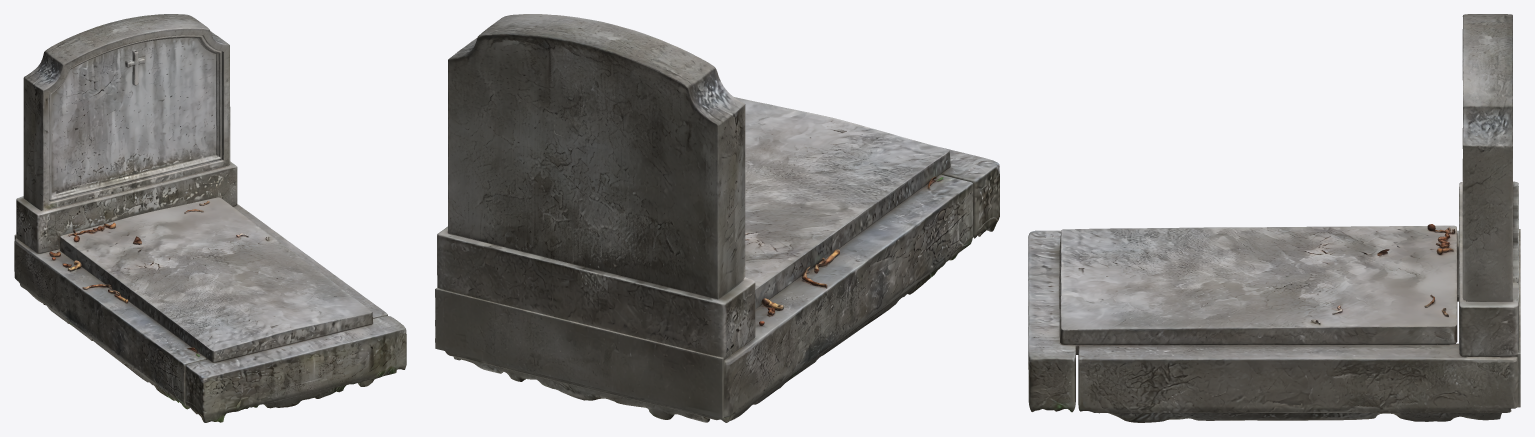
The model's file is TumbaF.obj.
3 views of the same model, side by side, from view 1: azimuth 30°, elevation 25°; view 2: azimuth 150°, elevation 25°; view 3: azimuth 270°, elevation 25° (orthographic). The views are drawn at different scales.
Visible parts, largest first — view 1: model; view 2: model; view 3: model.
Part boxes in pixels (<box>): model: <box>14,14,406,422</box>; model: <box>435,14,999,422</box>; model: <box>1028,14,1520,422</box>.
Size of the model in its own units: 1.18 by 1.38 by 1.91.
1 material, 1 textured.
